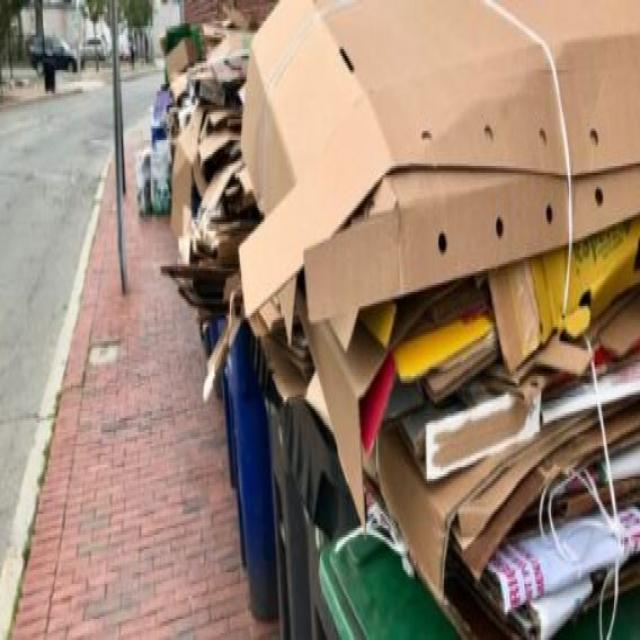dry: (278, 0, 598, 321), (212, 361, 329, 640)
